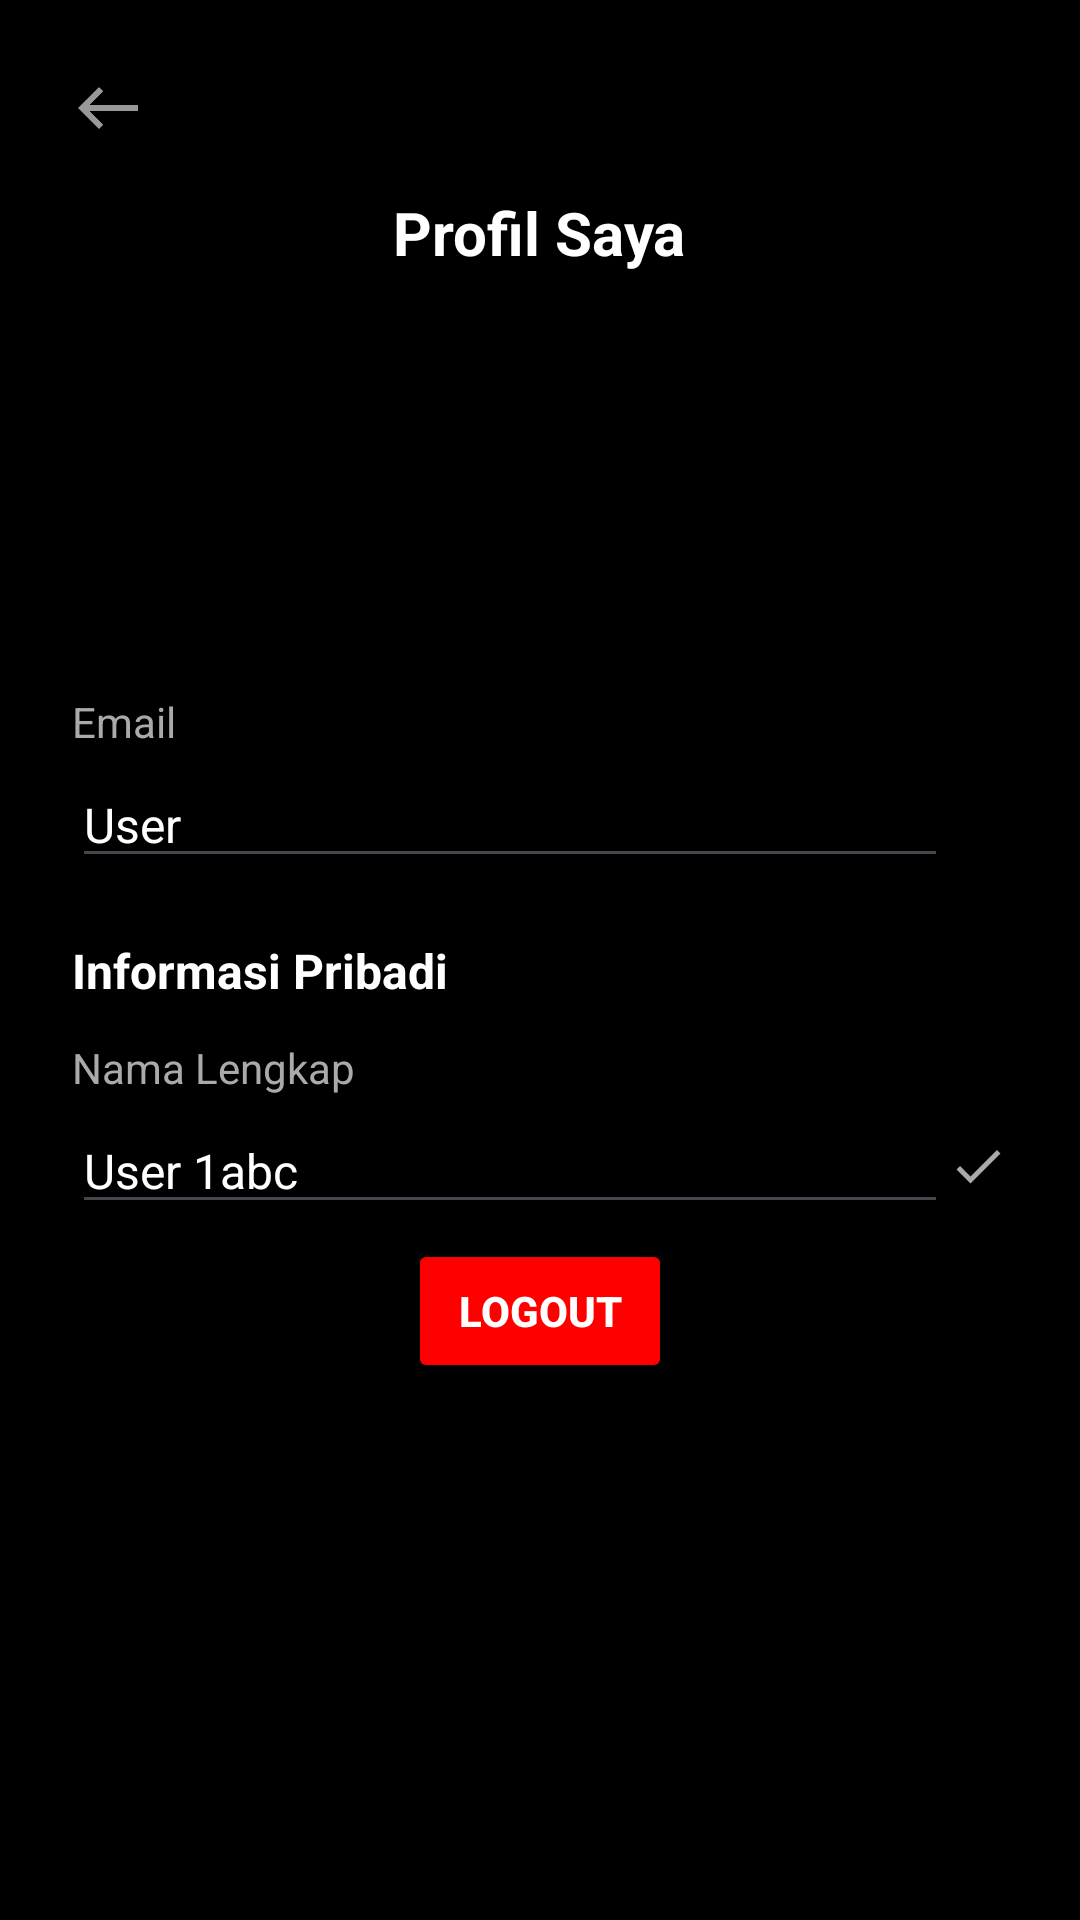

Icons on this 1080 × 1920 Android screen, each with the point to tap as (x,y):
arrow back: (108,108)
check: (978,1167)
